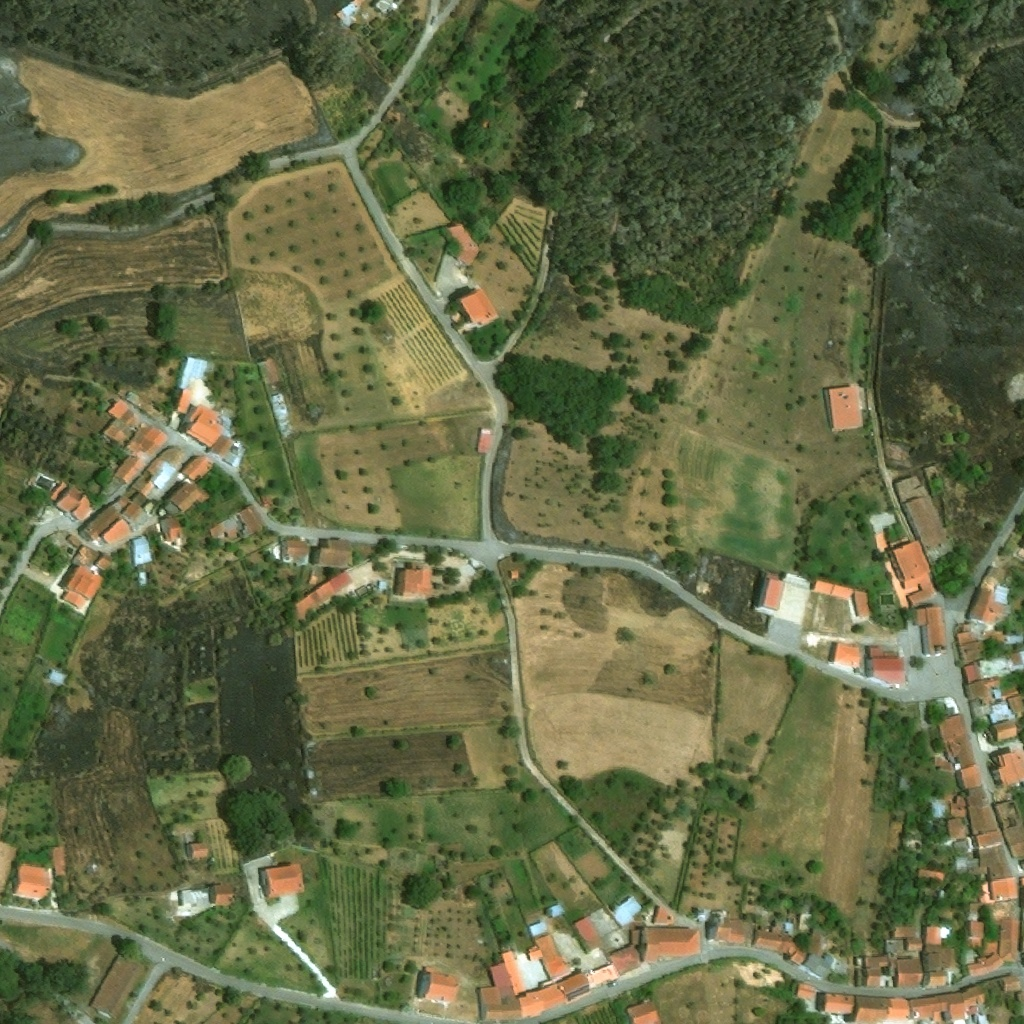0 no-damage: (893, 476, 955, 562), (555, 944, 643, 1003), (90, 952, 145, 1021), (287, 569, 353, 622), (887, 538, 937, 607), (964, 564, 1011, 631), (752, 912, 809, 967), (754, 572, 812, 624), (910, 983, 986, 1021), (478, 959, 526, 1019), (964, 677, 1023, 722), (630, 925, 699, 963), (526, 934, 573, 987), (811, 579, 873, 618), (208, 503, 265, 543), (937, 714, 975, 772), (920, 925, 956, 986), (76, 500, 123, 546), (822, 383, 865, 430), (968, 841, 1018, 879), (49, 480, 94, 522), (459, 287, 500, 333), (184, 403, 225, 449), (61, 566, 104, 609), (913, 606, 948, 657), (517, 983, 566, 1019), (865, 646, 905, 689), (994, 799, 1023, 858), (102, 399, 139, 445), (965, 785, 999, 834), (163, 479, 210, 514), (124, 422, 169, 458), (445, 221, 480, 267), (258, 863, 304, 898), (853, 995, 910, 1023), (12, 863, 52, 902), (704, 910, 744, 948), (395, 561, 433, 599), (140, 458, 176, 498), (797, 952, 848, 980), (990, 746, 1023, 789), (417, 970, 458, 1004), (310, 539, 354, 569), (968, 942, 1005, 977), (955, 623, 986, 661), (256, 356, 285, 395), (66, 533, 99, 567), (573, 915, 604, 951), (610, 895, 643, 927), (268, 393, 292, 437), (210, 435, 241, 467), (998, 918, 1020, 963), (177, 355, 206, 389), (828, 642, 863, 670), (815, 991, 854, 1016), (865, 955, 895, 987), (117, 493, 146, 525), (953, 836, 978, 873), (272, 539, 308, 564), (114, 454, 145, 483), (180, 456, 215, 481), (969, 881, 995, 914), (896, 958, 924, 987), (955, 763, 982, 791), (178, 886, 209, 910), (626, 999, 657, 1023), (102, 517, 130, 543), (970, 828, 1004, 848), (990, 876, 1018, 900), (1002, 975, 1023, 1006), (131, 534, 151, 564), (989, 719, 1016, 741), (94, 552, 120, 574), (964, 921, 985, 948), (797, 911, 825, 931), (159, 516, 182, 540), (810, 927, 828, 957), (960, 949, 978, 976), (946, 818, 969, 839), (916, 863, 944, 880), (651, 904, 673, 924), (210, 884, 233, 903), (50, 846, 64, 876), (176, 388, 192, 414), (962, 660, 981, 681), (795, 983, 815, 1002), (949, 795, 966, 817), (476, 428, 491, 452), (933, 756, 953, 774), (527, 920, 548, 937), (48, 669, 68, 686), (929, 799, 946, 819), (186, 842, 208, 857), (893, 926, 915, 937), (885, 938, 903, 951), (547, 903, 562, 918), (898, 775, 911, 792), (907, 938, 923, 950), (138, 572, 146, 585), (974, 1014, 985, 1023), (377, 579, 386, 589), (509, 570, 518, 578)
4 un-classified: (334, 0, 368, 27), (374, 0, 405, 18), (1007, 649, 1023, 672)
